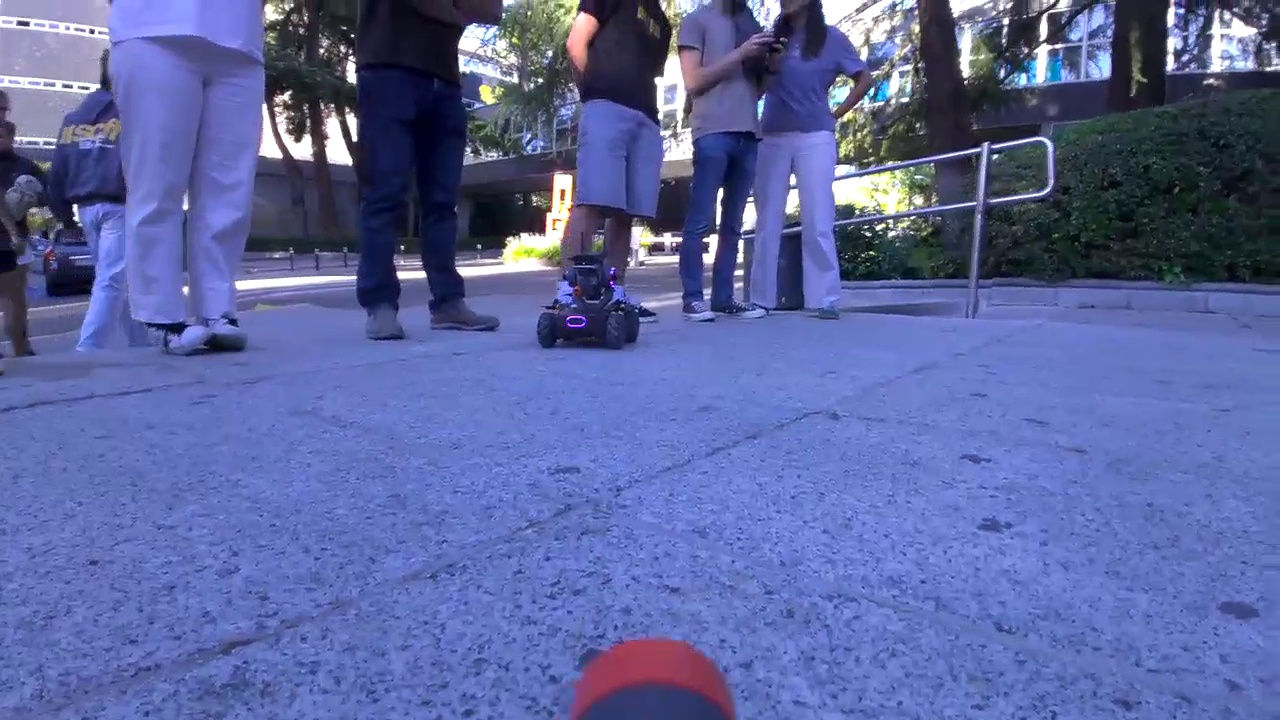robot: (536, 252, 640, 351)
